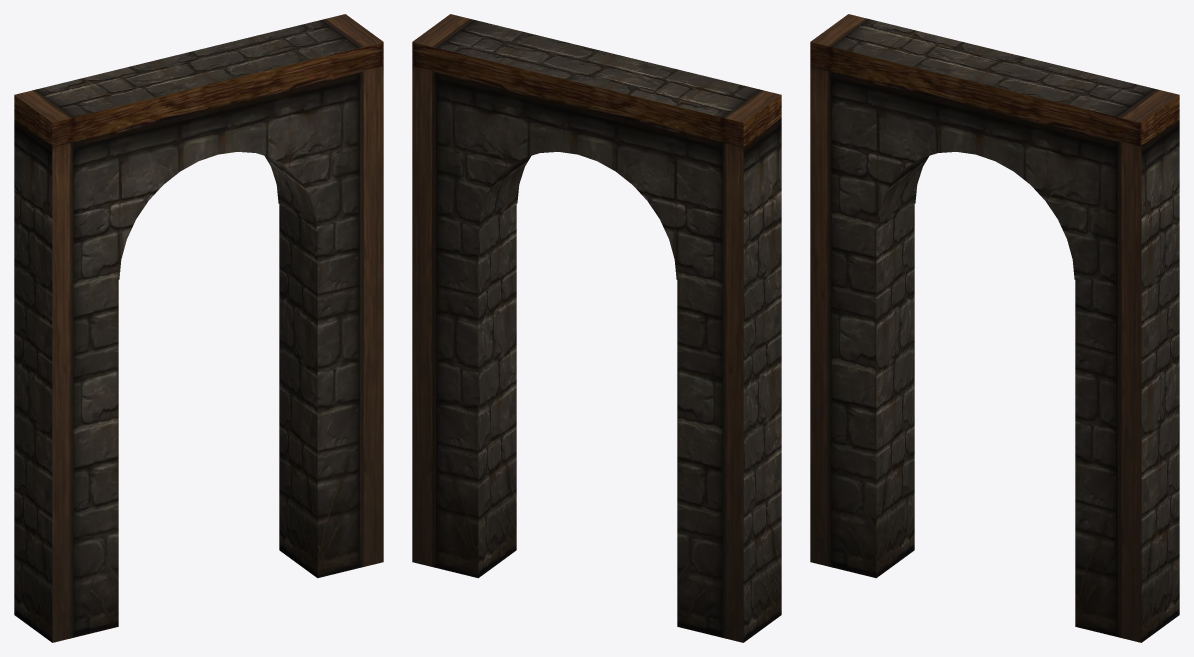
File: blk_gate2.glb
3 views of the same model, side by side, from view 1: azimuth 30°, elevation 25°; view 2: azimuth 150°, elevation 25°; view 3: azimuth 330°, elevation 25° (orthographic).
Parts seen in each view (by area): view 1: Cube.002; view 2: Cube.002; view 3: Cube.002.
Boxes of the visible parts, bbox=[...] form: Cube.002: bbox=[14, 14, 383, 642]; Cube.002: bbox=[412, 14, 781, 642]; Cube.002: bbox=[810, 14, 1179, 642].
Size of the model in its own units: 2 by 3 by 0.4.
Materials: 1 (1 with a texture image).
